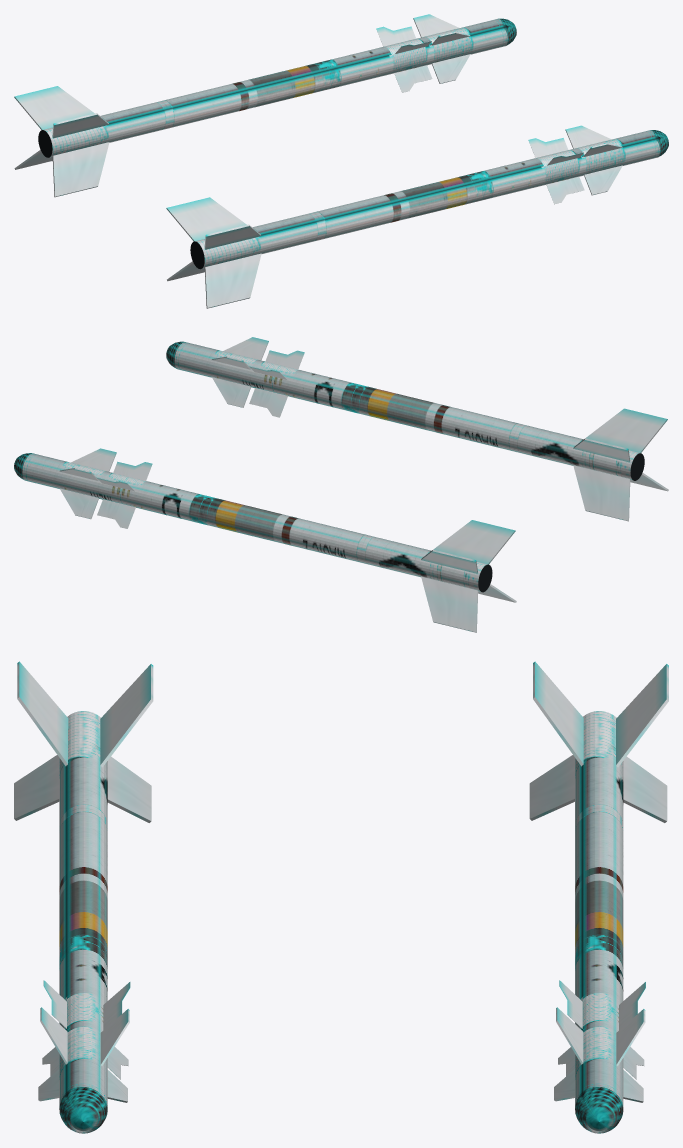
3 views of the same model, one above another, from view 1: azimuth 30°, elevation 25°; view 2: azimuth 150°, elevation 25°; view 3: azimuth 270°, elevation 25° (orthographic). The views are drawn at different scales.
Visible parts, largest first — view 1: 立方体.007, 立方体.006; view 2: 立方体.006, 立方体.007; view 3: 立方体.006, 立方体.007.
Part boxes in pixels (x1,y1,x2,y2): 立方体.007: [14, 14, 516, 197]; 立方体.006: [166, 125, 668, 308]; 立方体.006: [166, 337, 668, 521]; 立方体.007: [14, 448, 516, 632]; 立方体.006: [14, 661, 153, 1133]; 立方体.007: [529, 661, 668, 1133].
Size of the model in its own units: 3.19 by 0.4709 by 2.21.
2 materials, 2 textured.
